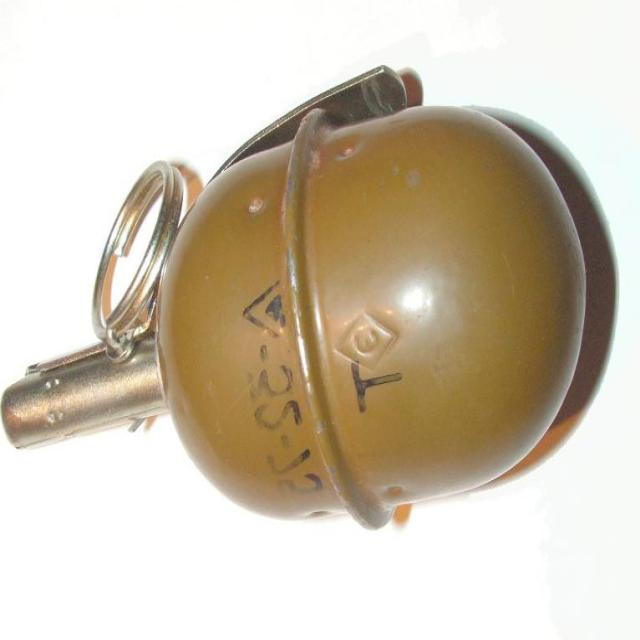grenade: (1, 67, 588, 535)
